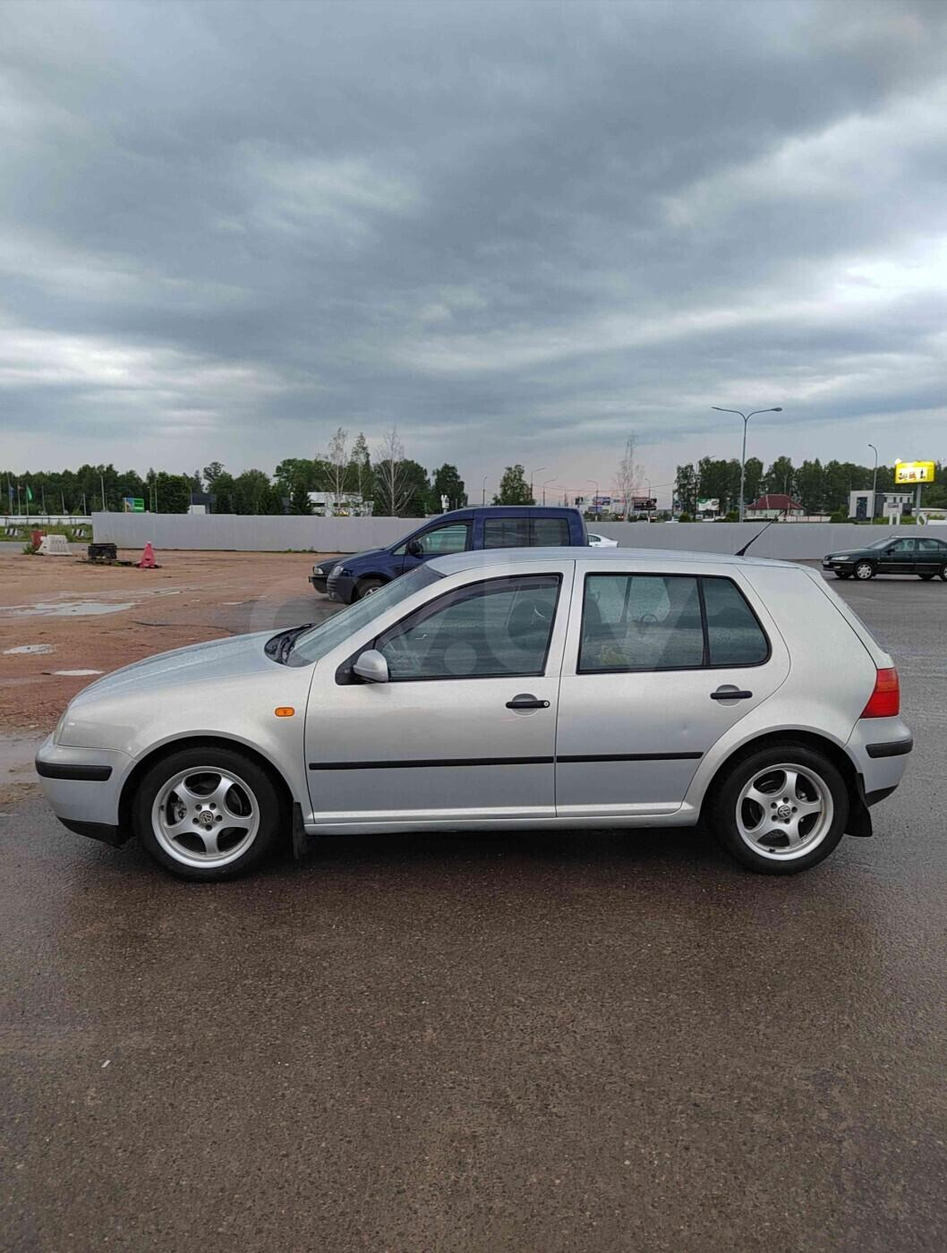Golf_1997-2006: (36, 537, 918, 888)
